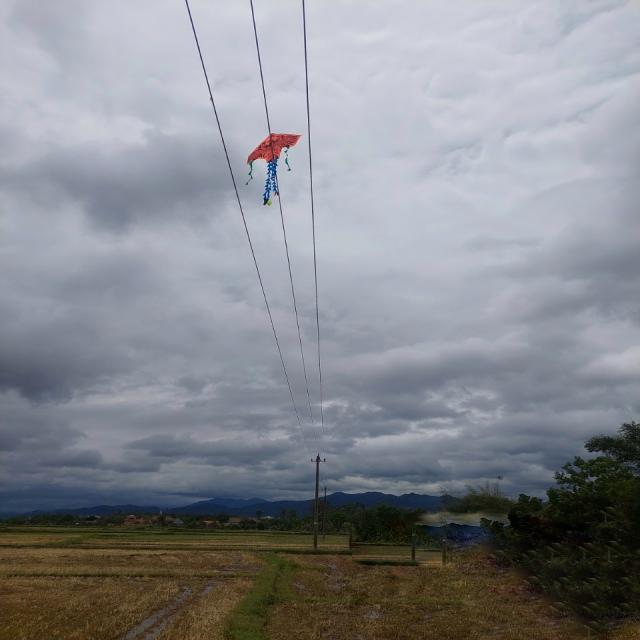植被遮挡: (246, 131, 303, 207)
